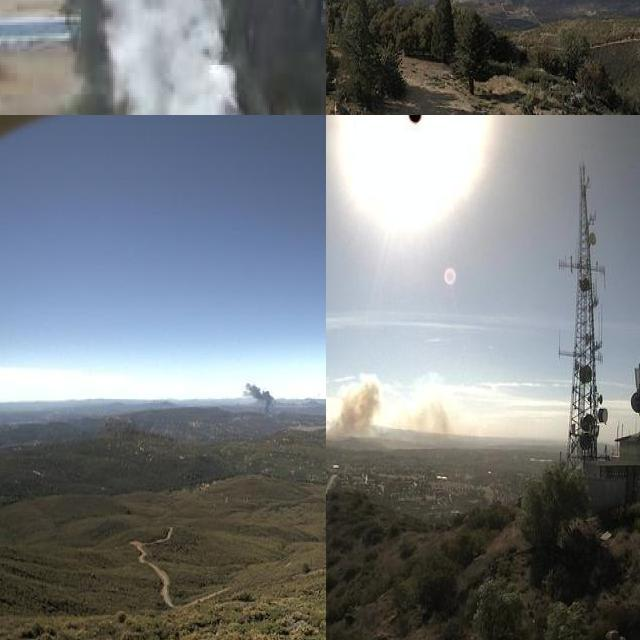smoke: (49, 0, 291, 115), (326, 366, 469, 438), (239, 378, 278, 419)
